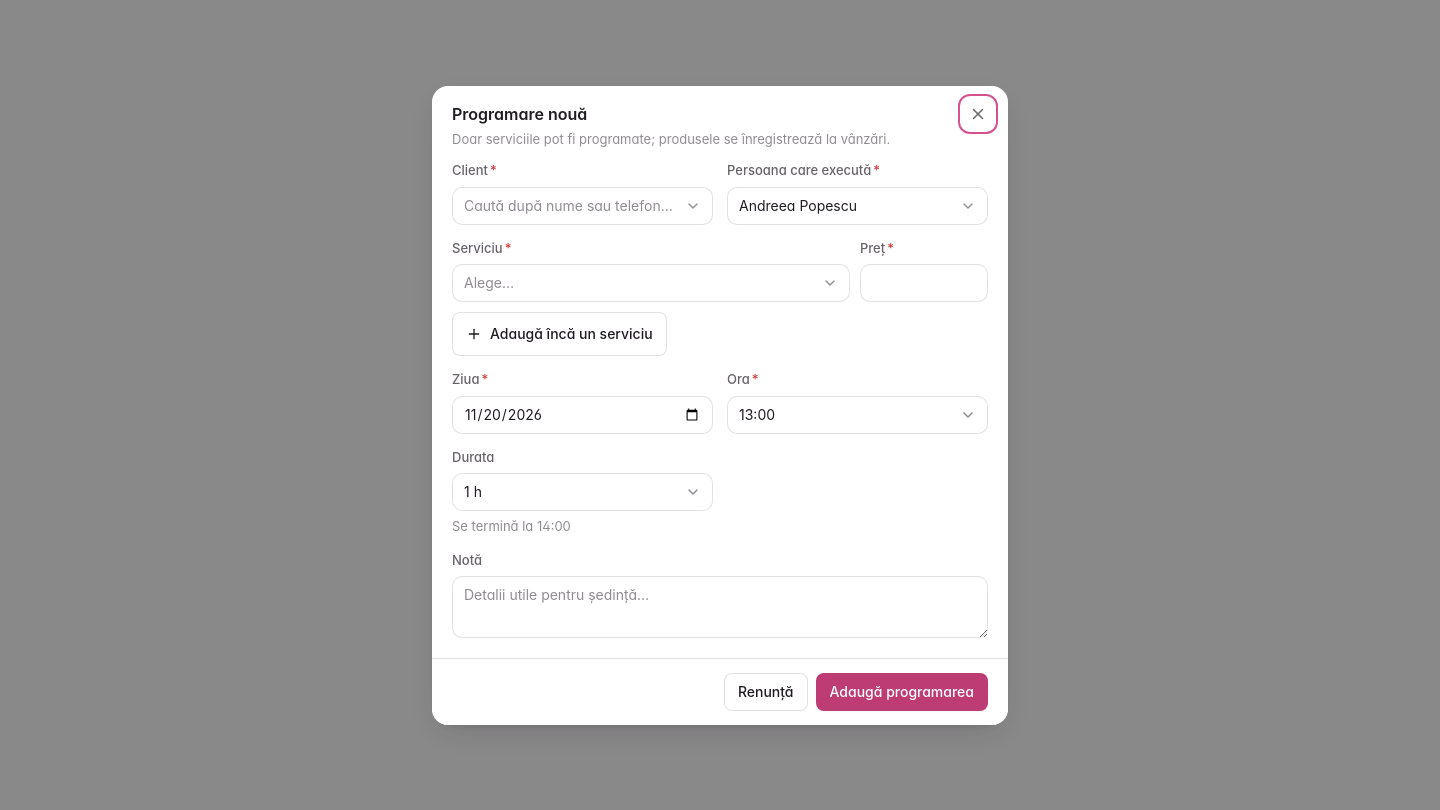
serviciu nou din formularul de programare › operatorul obișnuit nu vede rândul de creare — POST /articole îi e interzis (§7)
The width and height of the screenshot is (1440, 810).
Click the dropdown named "Serviciu" at (489, 282), box [452, 264, 850, 302]
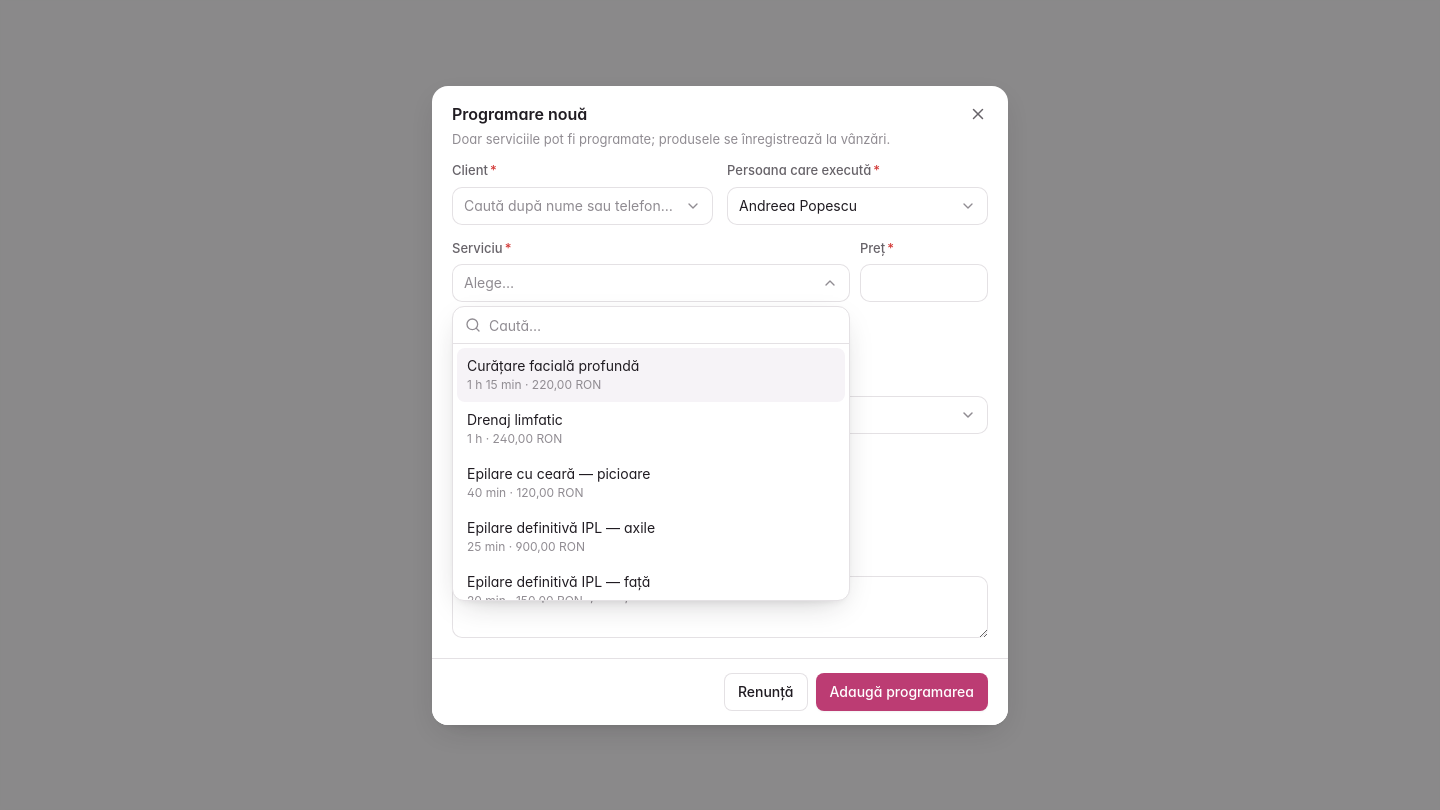
Type "Serviciu Nou Inexistent" into the field named "Caută în listă" at (663, 325), box [489, 307, 837, 343]
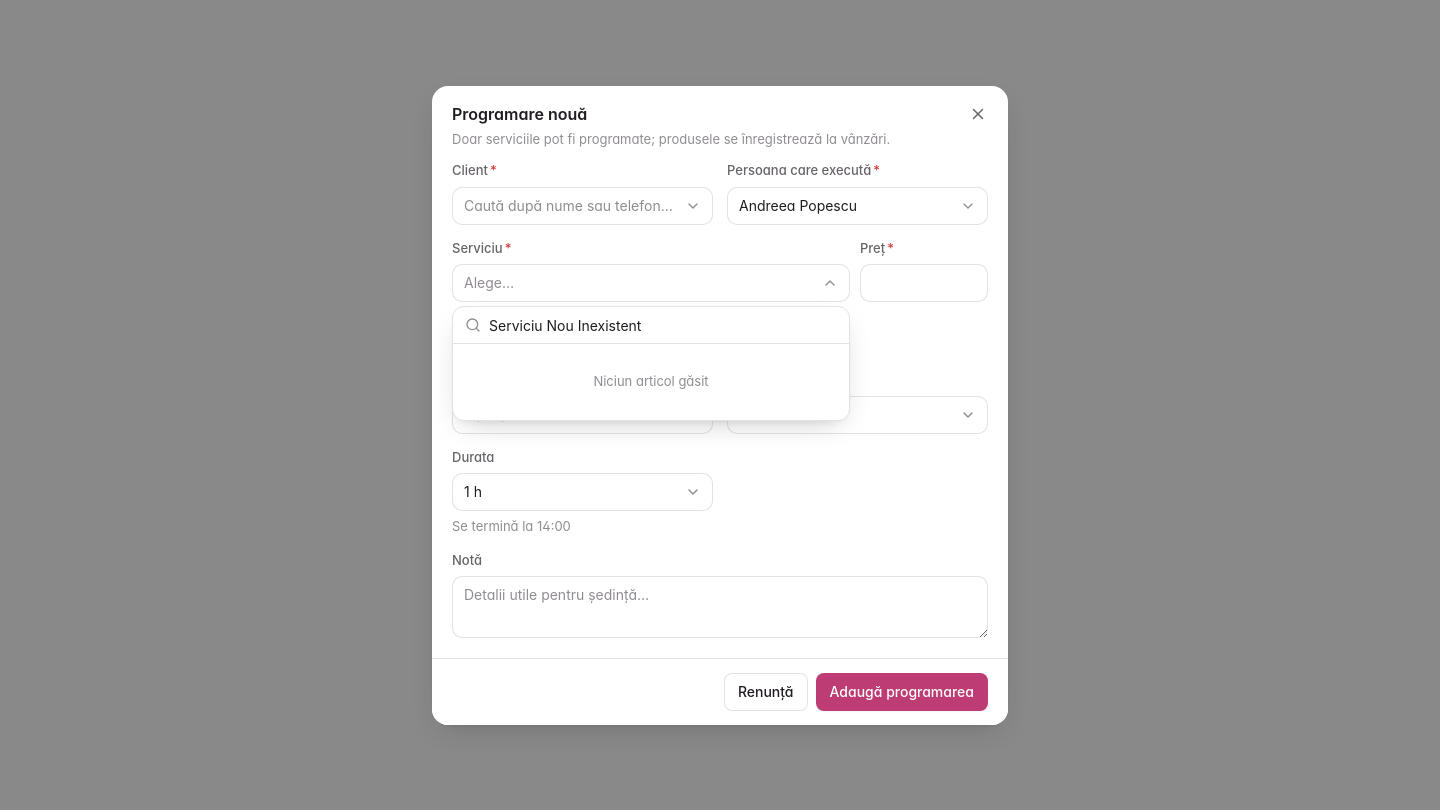
Expected: no options are shown
Press Escape in the field named "Caută în listă", box [489, 307, 837, 343]
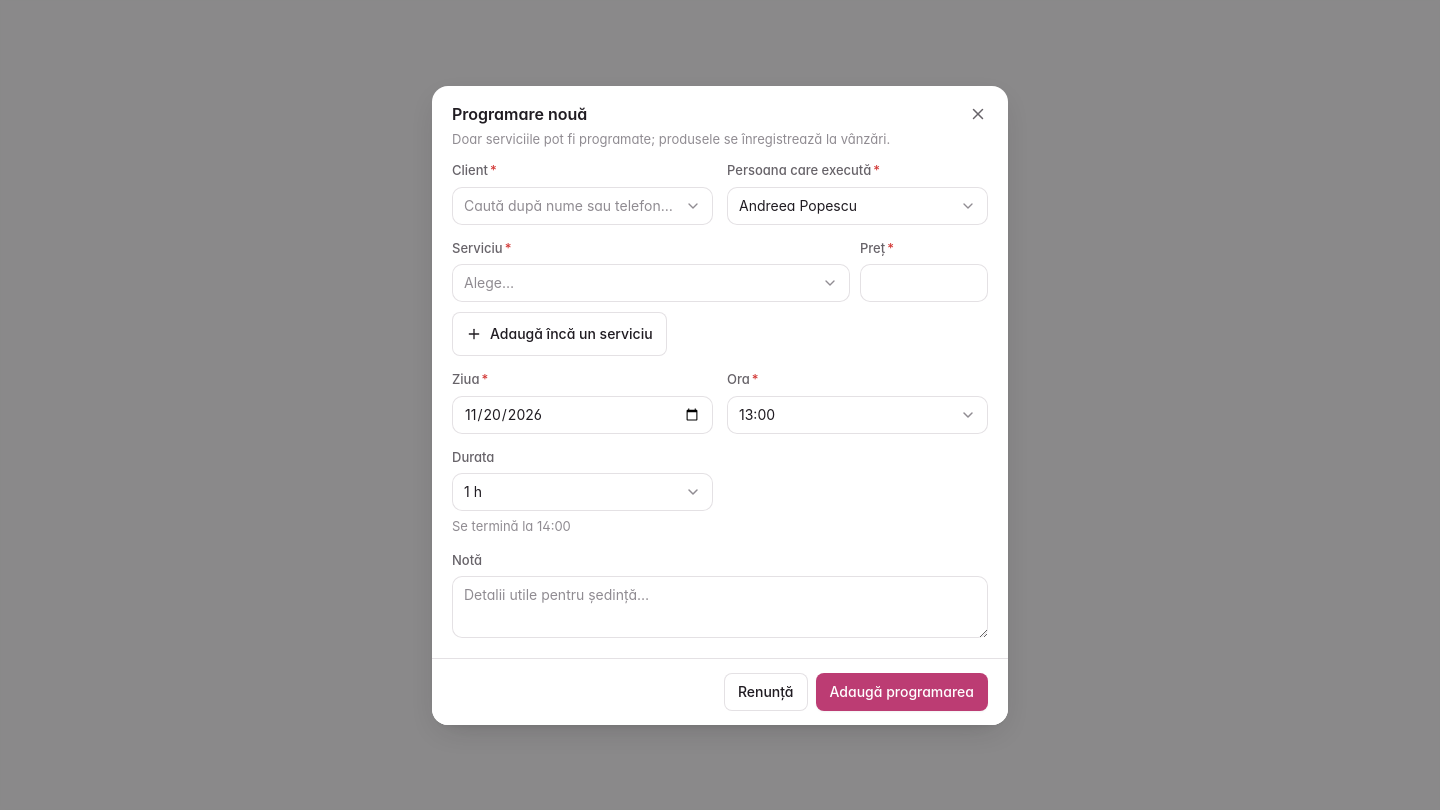
Click the dropdown named "Client" at (582, 206), box [452, 186, 713, 224]
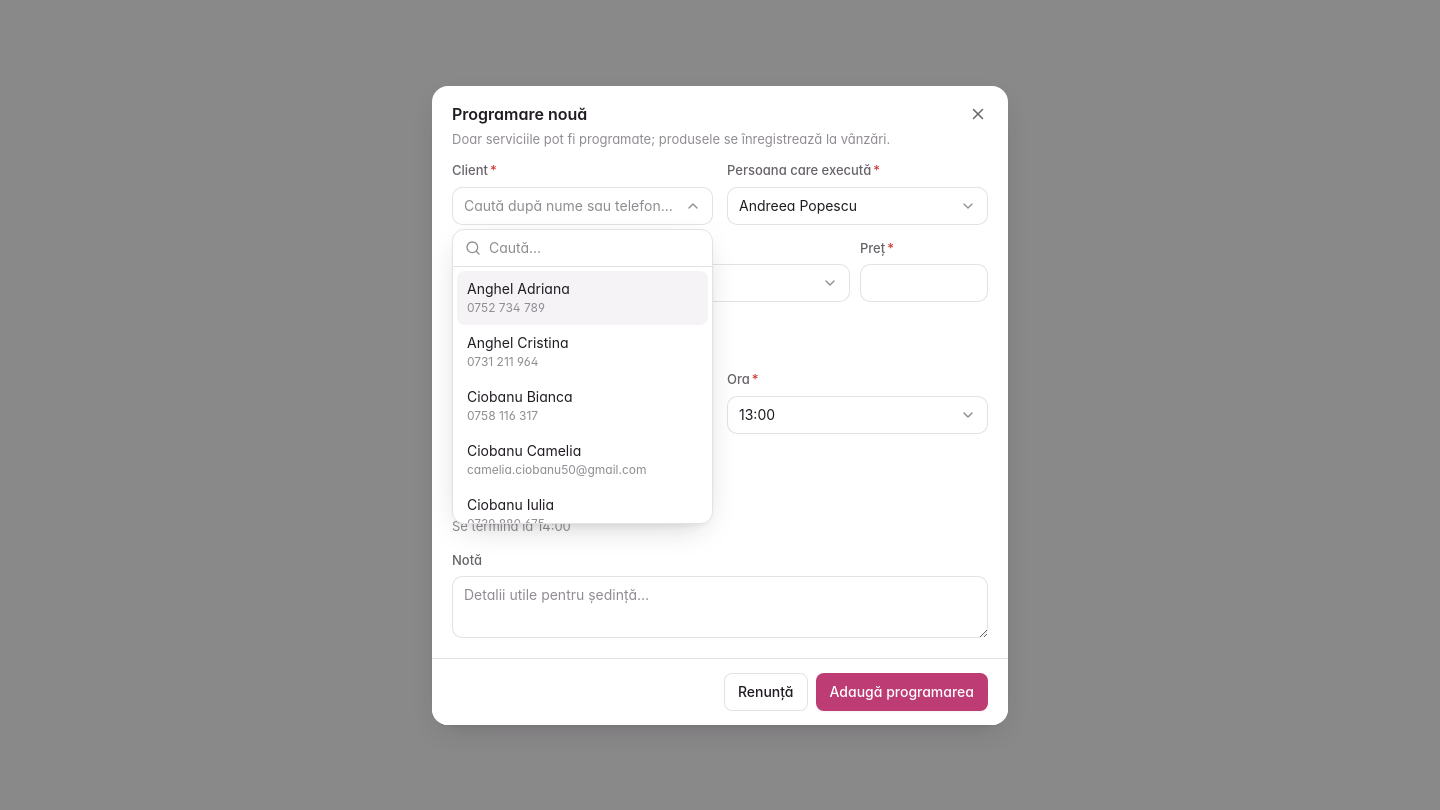
Type "Client Nou De Operator" into the field named "Caută în listă" at (594, 248), box [489, 230, 700, 266]
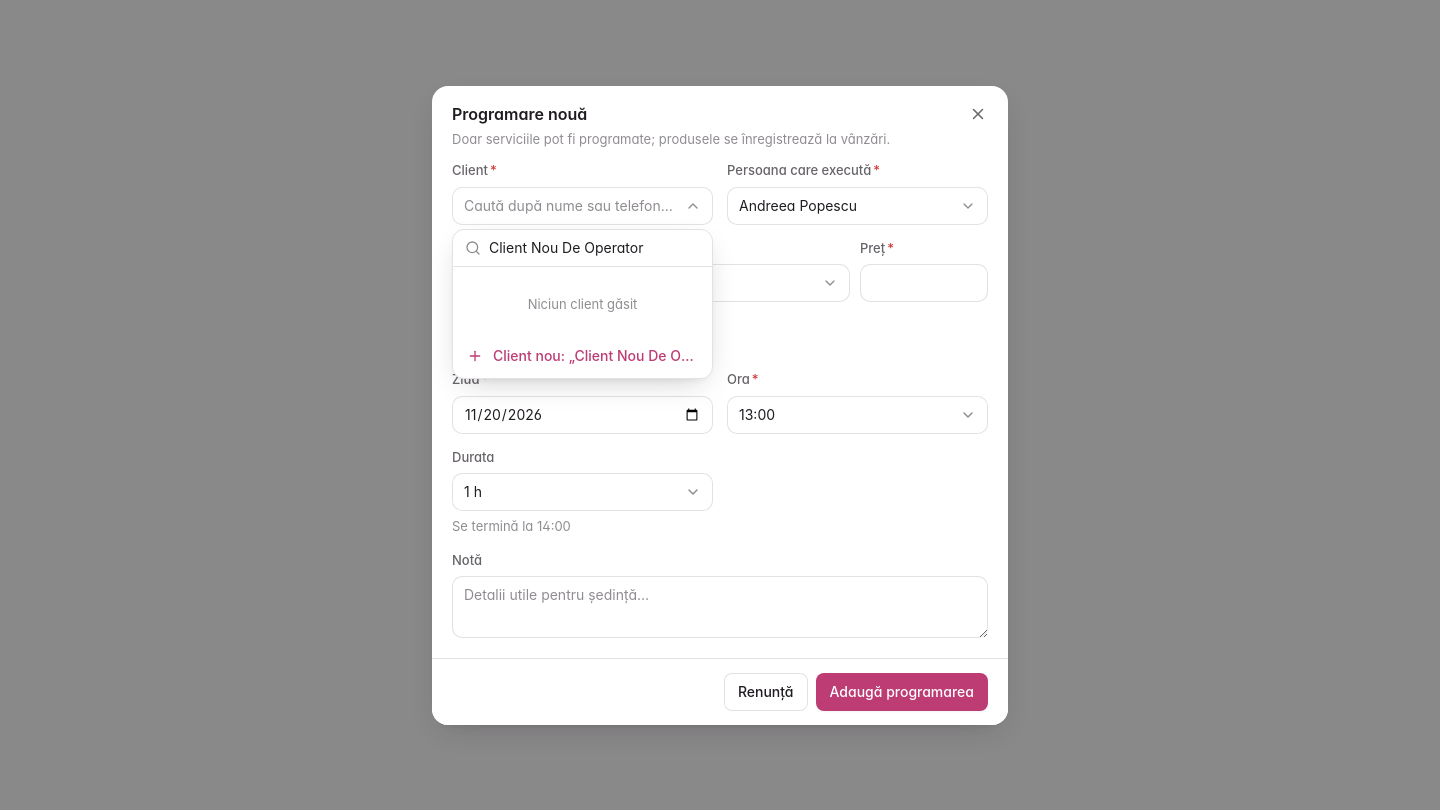
Expected: the button "Client nou: „Client Nou De Operator”" is shown, [457, 338, 708, 374]
